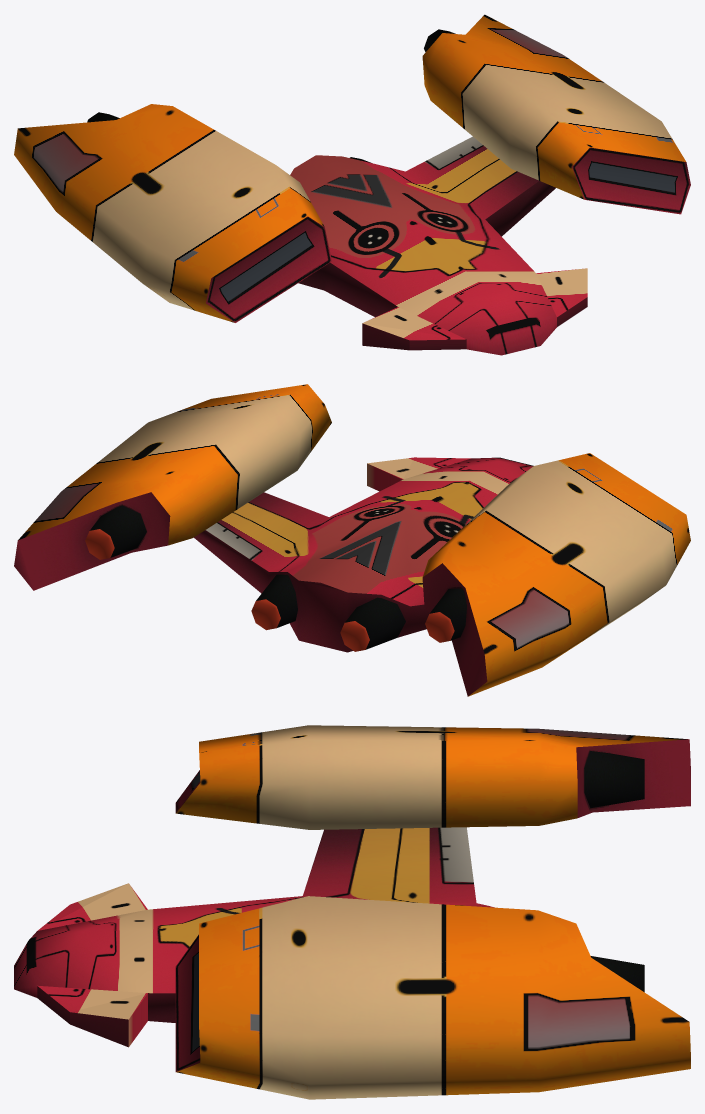
The model's file is Enemy_tray_01.FBX.
3 views of the same model, one above another, from view 1: azimuth 30°, elevation 25°; view 2: azimuth 150°, elevation 25°; view 3: azimuth 270°, elevation 25° (orthographic). The views are drawn at different scales.
Visible parts, largest first — view 1: Enemy-Tray_01; view 2: Enemy-Tray_01; view 3: Enemy-Tray_01.
Part boxes in pixels (<box>): Enemy-Tray_01: <box>14,14,690,355</box>; Enemy-Tray_01: <box>14,384,690,696</box>; Enemy-Tray_01: <box>14,725,690,1099</box>.
Bounding box in the file's own units: 617 × 557 × 179.
1 material, 1 textured.
